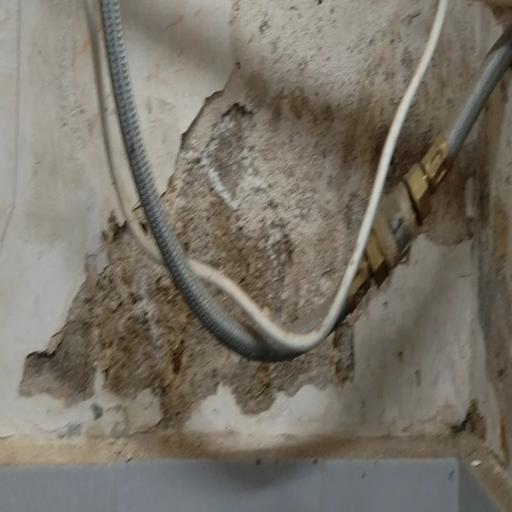peeling: (16, 0, 512, 478)
